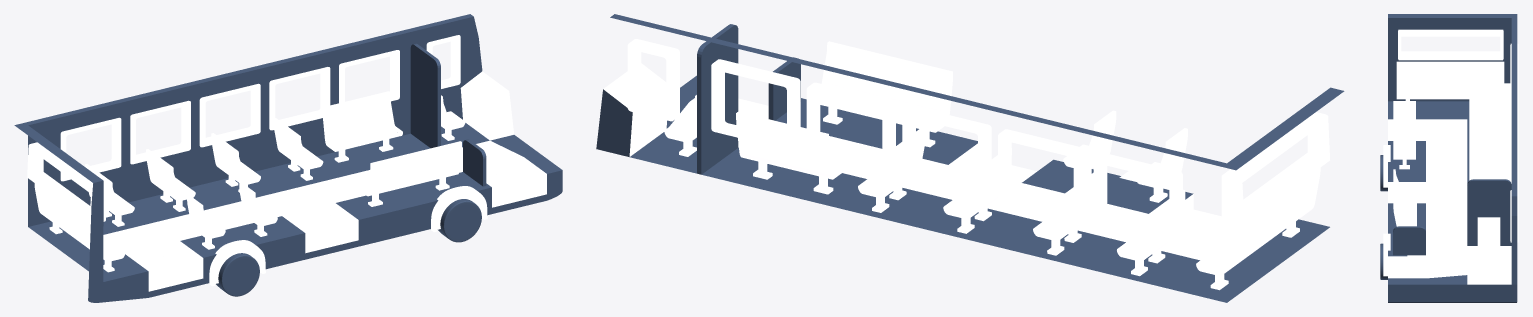
File: bus.glb
The picture shows the model from 3 angles, left to right: view 1: azimuth 30°, elevation 25°; view 2: azimuth 150°, elevation 25°; view 3: azimuth 270°, elevation 25°; orthographic projection. The views are drawn at different scales.
Parts seen in each view (by area): view 1: Bus, Cube001, Cube014, Cube003, Cilindro, Cube002, Cube013, Cube008, Cube006, Cube007, Cube011, Cube009 (+2 smaller); view 2: Bus, Cube001, Cube003, Cube013, Cube014, Cube008, Cube005, Cube006, Cube007, Cube009, Cube011, Cube012; view 3: Bus, Cube013, Cube001, Cube006, Cube007, Cube005, Cube011, Cube008, Cube003, Cube012, Cube002, Cube009 (+1 smaller).
Part boxes in pixels (box(x1,y1,x2,y2)): Bus: box(14, 14, 562, 302); Cube001: box(27, 35, 460, 223); Cube014: box(322, 91, 402, 162); Cube003: box(357, 141, 461, 206); Cilindro: box(216, 199, 481, 296); Cube002: box(208, 186, 487, 286); Cube013: box(34, 183, 125, 272); Cube008: box(273, 118, 323, 180); Cube006: box(146, 149, 195, 211); Cube007: box(211, 133, 260, 192); Cube011: box(239, 182, 277, 236); Cube009: box(187, 195, 225, 249); Bus: box(596, 14, 1344, 302); Cube001: box(627, 39, 1329, 243); Cube003: box(820, 41, 952, 147); Cube013: box(1196, 167, 1320, 290); Cube014: box(736, 112, 846, 194); Cube008: box(858, 126, 926, 212); Cube005: box(1117, 189, 1185, 276); Cube006: box(1033, 172, 1093, 255); Cube007: box(943, 148, 1011, 233); Cube009: box(1135, 128, 1187, 202); Cube011: box(1063, 110, 1116, 176); Cube012: box(664, 95, 696, 156); Bus: box(1388, 14, 1517, 302); Cube013: box(1396, 61, 1504, 100); Cube001: box(1398, 29, 1518, 242); Cube006: box(1469, 107, 1510, 133); Cube007: box(1469, 133, 1510, 158); Cube005: box(1469, 83, 1510, 107); Cube011: box(1393, 122, 1415, 169); Cube008: box(1469, 158, 1510, 180); Cube003: box(1393, 169, 1416, 226); Cube012: box(1477, 217, 1500, 245); Cube002: box(1383, 145, 1390, 276); Cube009: box(1393, 101, 1415, 121).
Size of the model in its own units: 739 by 215 by 228.
